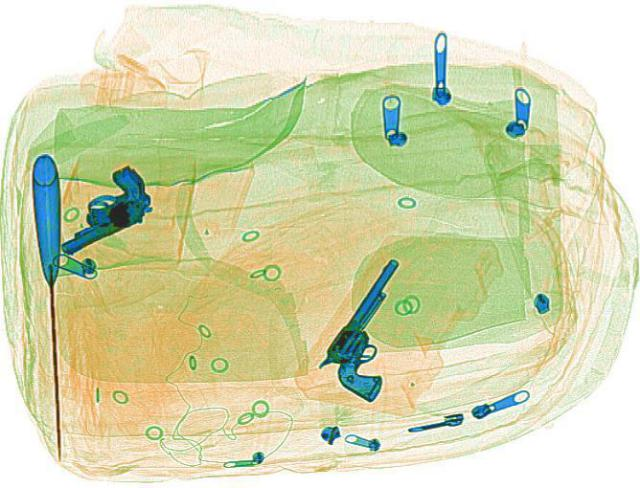Gun: (302, 255, 461, 400), (22, 162, 170, 254)
Knife: (27, 153, 71, 461)
